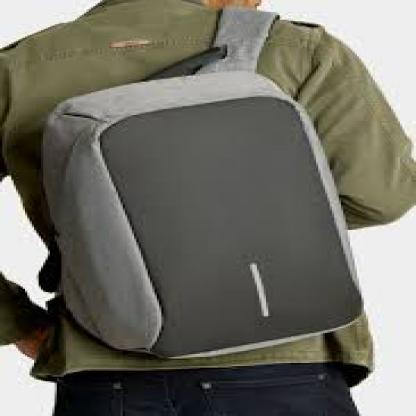morral: (34, 3, 402, 352)
